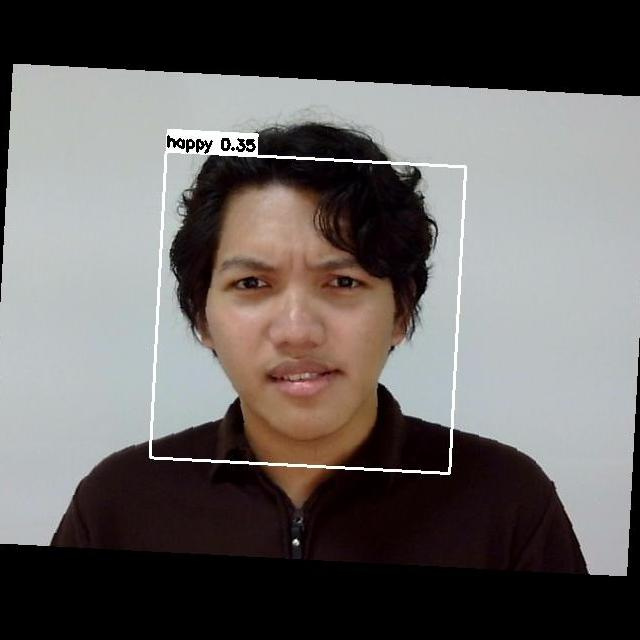Angry: (194, 229, 415, 417)
